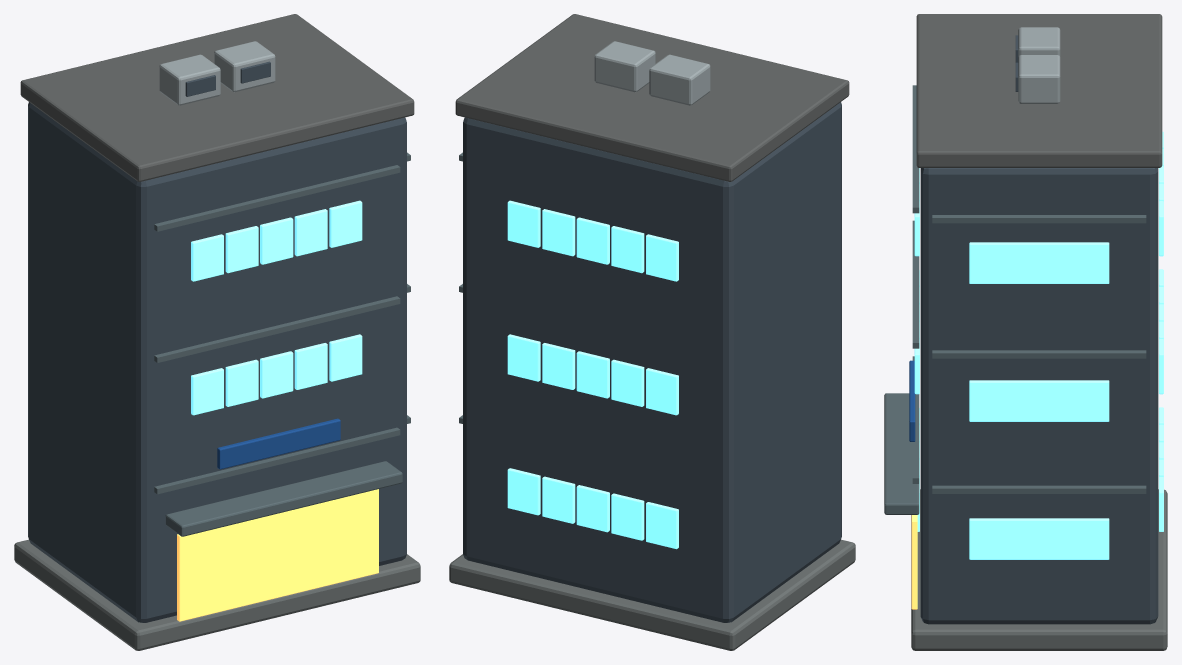
File: commercial_office_lowrise.glb
3 views of the same model, side by side, from view 1: azimuth 30°, elevation 25°; view 2: azimuth 150°, elevation 25°; view 3: azimuth 270°, elevation 25° (orthographic). The views are drawn at different scales.
Parts seen in each view (by area): view 1: main_massing, roof_slab, storefront_glazing, foundation, storefront_awning, shop_sign, facade_band_front, facade_band_front.001, facade_band_front.002, hvac_unit, hvac_unit.001, front_window.012 (+9 smaller); view 2: main_massing, roof_slab, foundation, hvac_unit, hvac_unit.001, rear_window.012, rear_window.013, rear_window.006, rear_window.007, rear_window.009, rear_window.014, rear_window.001 (+8 smaller); view 3: main_massing, roof_slab, foundation, storefront_awning, hvac_unit.001, facade_band_side.001, facade_band_side, facade_band_side.002, side_window, side_window.008, side_window.004, side_window.011 (+14 smaller).
Boxes of the visible parts, <box> form: main_massing: <box>28,102,406,622</box>; roof_slab: <box>20,14,414,181</box>; storefront_glazing: <box>177,489,378,621</box>; foundation: <box>14,539,420,650</box>; storefront_awning: <box>165,461,402,536</box>; shop_sign: <box>217,418,340,469</box>; facade_band_front: <box>154,427,400,494</box>; facade_band_front.001: <box>154,296,400,362</box>; facade_band_front.002: <box>154,165,400,231</box>; hvac_unit: <box>159,54,220,105</box>; hvac_unit.001: <box>214,41,275,92</box>; front_window.012: <box>260,217,293,264</box>; main_massing: <box>463,102,841,622</box>; roof_slab: <box>455,14,849,181</box>; foundation: <box>449,539,855,650</box>; hvac_unit: <box>649,54,710,105</box>; hvac_unit.001: <box>594,41,655,92</box>; rear_window.012: <box>576,217,609,264</box>; rear_window.013: <box>542,209,575,256</box>; rear_window.006: <box>611,359,644,406</box>; rear_window.007: <box>576,351,609,398</box>; rear_window.009: <box>507,334,540,381</box>; rear_window.014: <box>507,200,540,247</box>; rear_window.001: <box>611,493,644,540</box>; main_massing: <box>920,168,1158,624</box>; roof_slab: <box>916,14,1162,167</box>; foundation: <box>911,489,1167,650</box>; storefront_awning: <box>884,393,919,514</box>; hvac_unit.001: <box>1018,55,1060,103</box>; facade_band_side.001: <box>932,350,1146,358</box>; facade_band_side: <box>932,485,1146,493</box>; facade_band_side.002: <box>932,215,1146,223</box>; side_window: <box>1073,518,1109,559</box>; side_window.008: <box>1073,242,1109,283</box>; side_window.004: <box>1073,380,1109,421</box>; side_window.011: <box>969,242,1005,283</box>.
Size of the model in its own units: 1.46 by 2.51 by 1.21.
